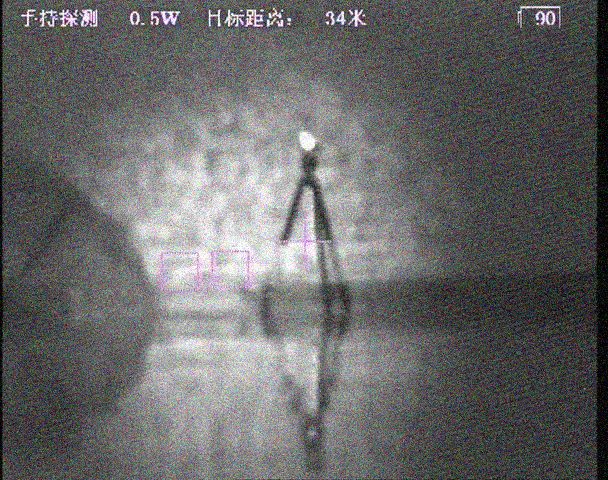my: (297, 129, 318, 152)
